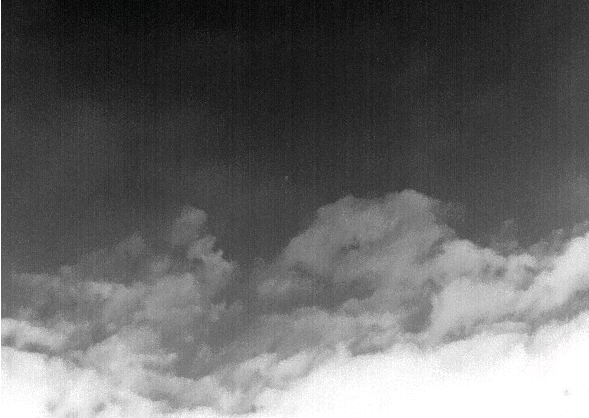dim target: (284, 174, 289, 180)
